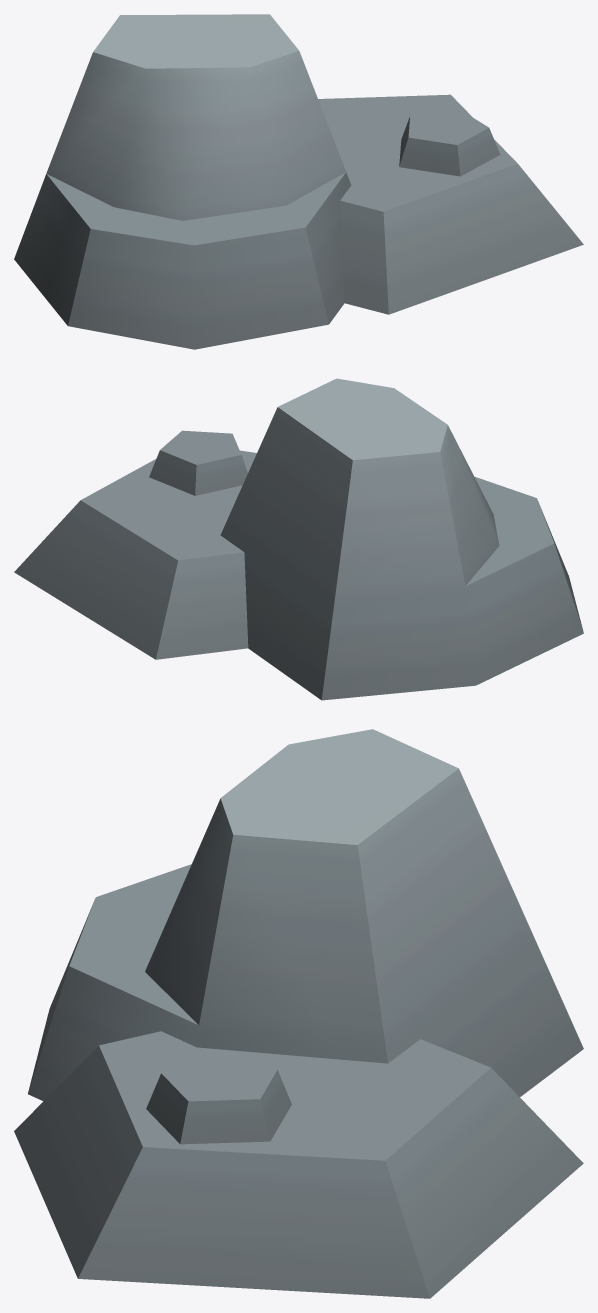
The model's file is rock_single_e.glb.
The picture shows the model from 3 angles, top to bottom: view 1: azimuth 30°, elevation 25°; view 2: azimuth 150°, elevation 25°; view 3: azimuth 270°, elevation 25°; orthographic projection. The views are drawn at different scales.
Parts seen in each view (by area): view 1: rock_single_E; view 2: rock_single_E; view 3: rock_single_E.
Boxes of the visible parts, x1,y1,x2,y2 form: rock_single_E: [14, 14, 583, 349]; rock_single_E: [14, 378, 583, 700]; rock_single_E: [14, 729, 583, 1298].
Bounding box in the file's own units: 0.4881 × 0.1948 × 0.3475.
1 material, 1 textured.
